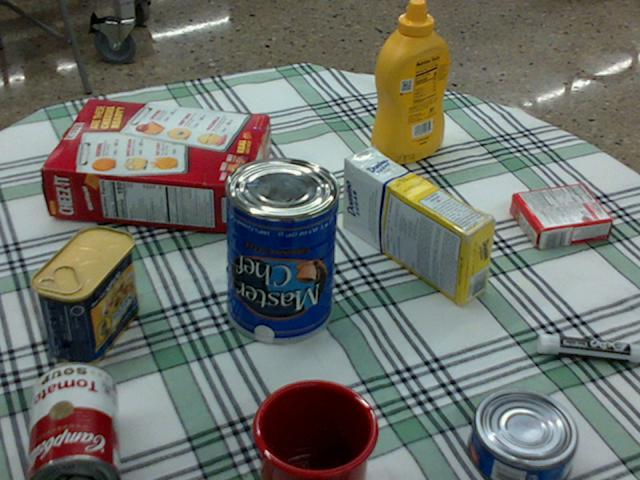cracker_box: (42, 99, 266, 231)
gelatin_box: (509, 184, 611, 249)
large_marker: (538, 333, 639, 361)
master_chef_can: (224, 157, 339, 342)
mug: (246, 380, 375, 479)
mustard_bottle: (370, 0, 448, 163)
potted_meat_can: (32, 225, 137, 365)
sugar_box: (342, 148, 495, 305)
tomato_soup_can: (23, 362, 117, 479)
tuna_fish_can: (468, 390, 578, 479)
